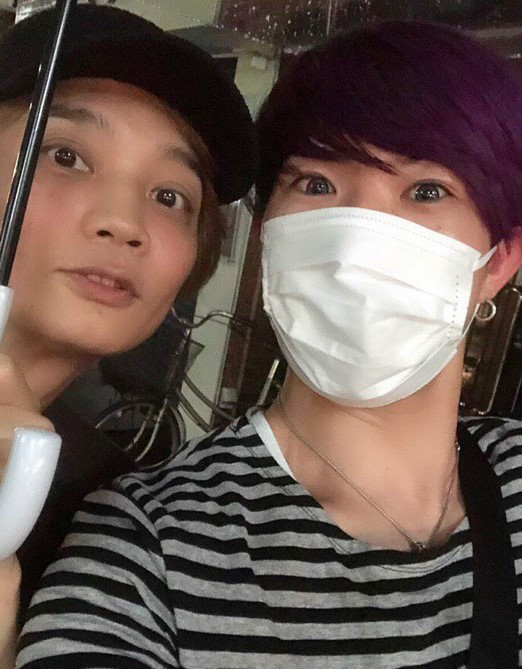face_no_mask: (7, 42, 218, 376)
face_with_mask: (255, 19, 522, 413)
